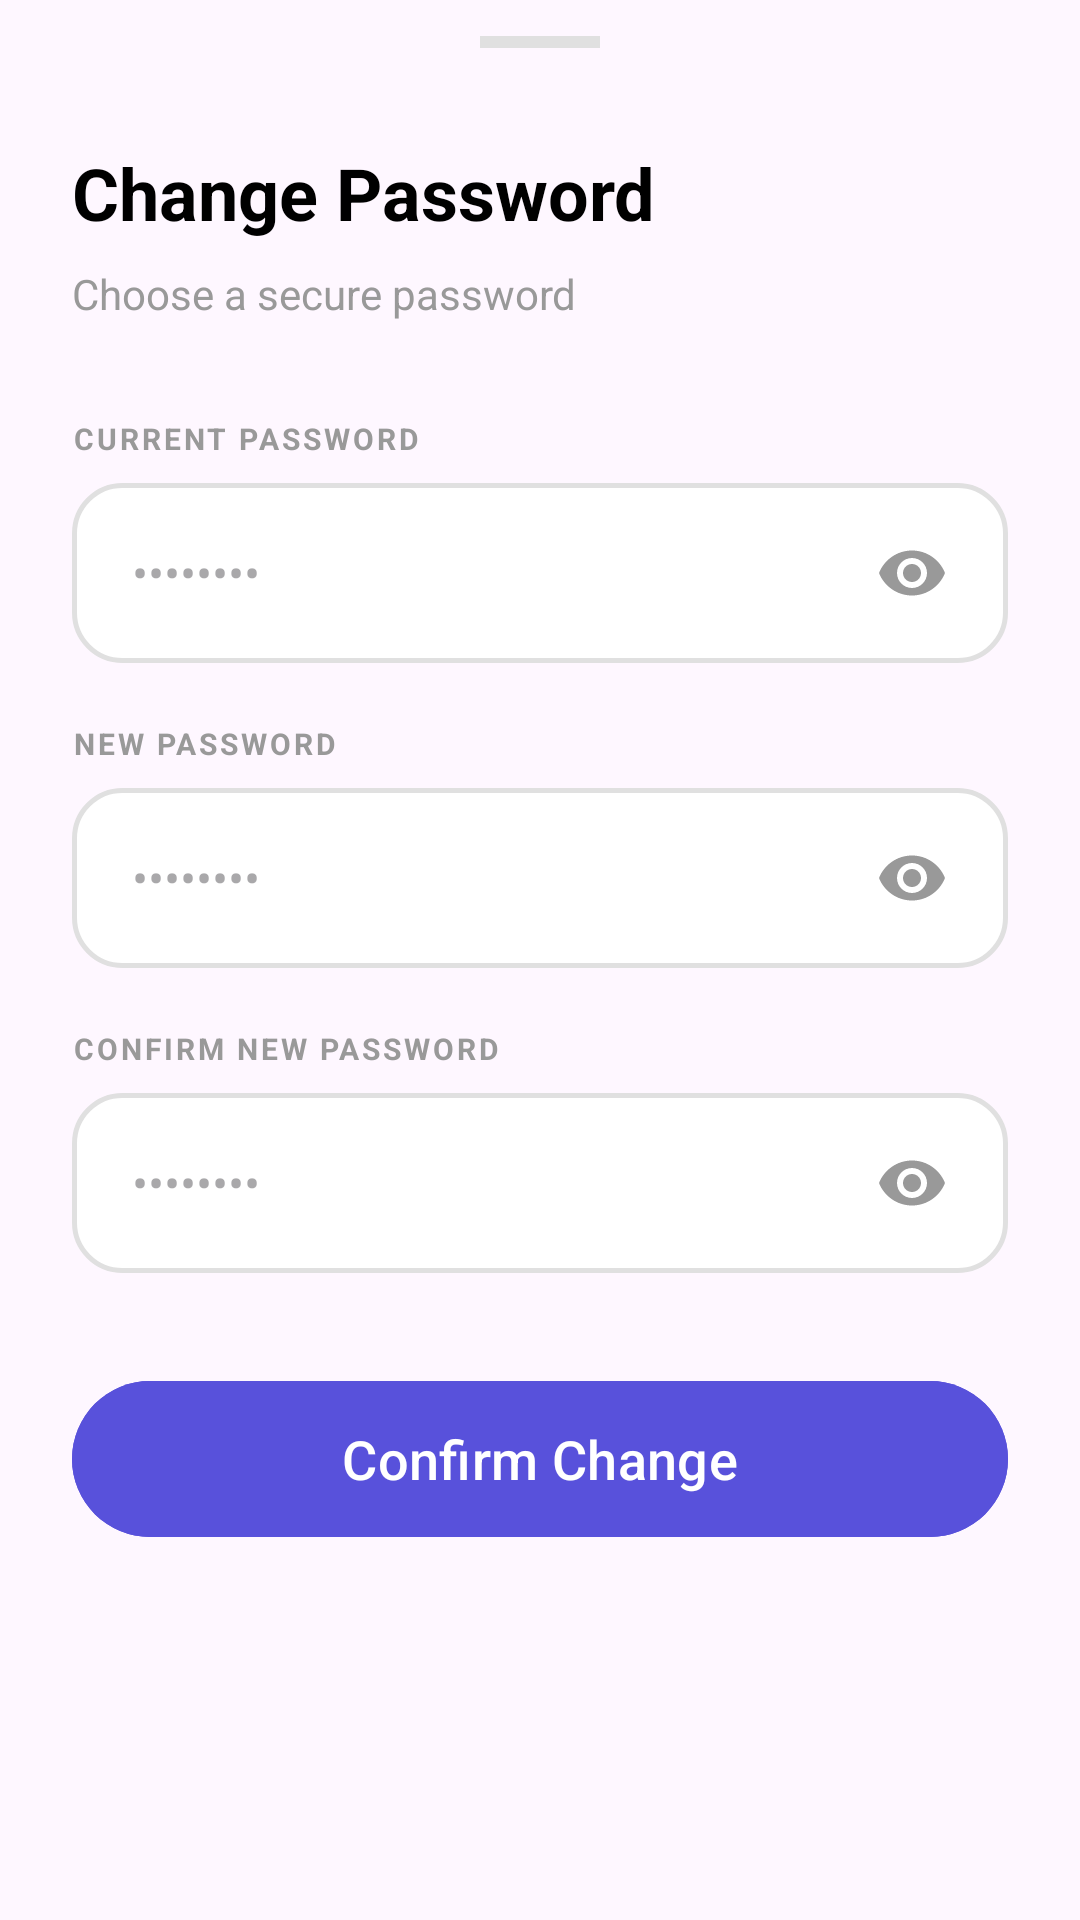

Screen size 1080w x 1920h. Icon name, then its center in pixels as (x,y):
visibility: (912,573), (912,878), (912,1183)
